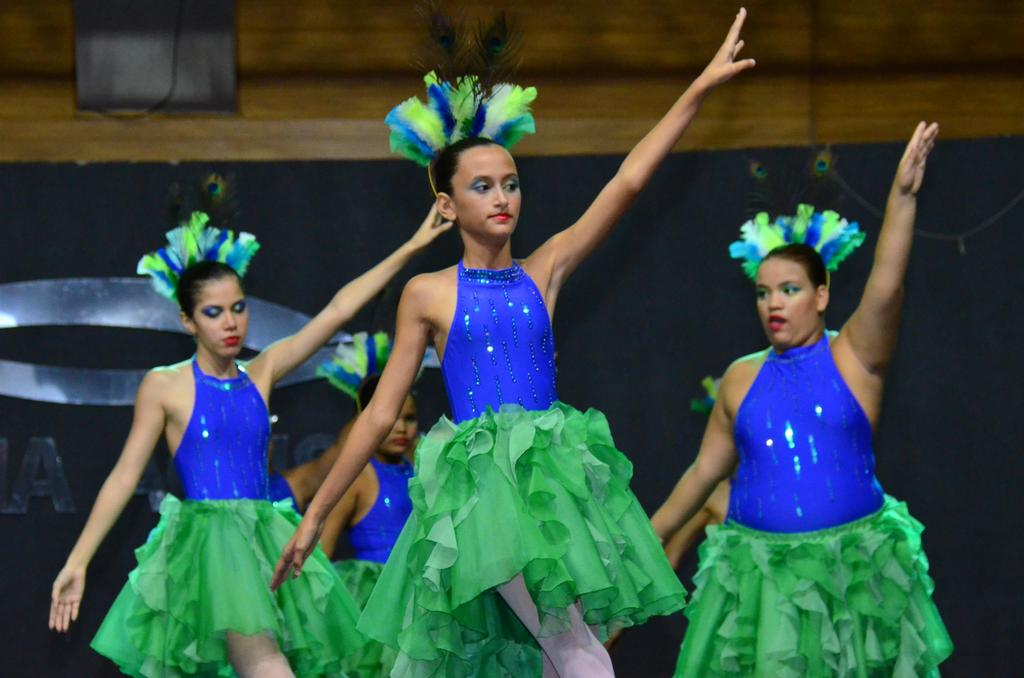Person: (47, 6, 955, 678)
